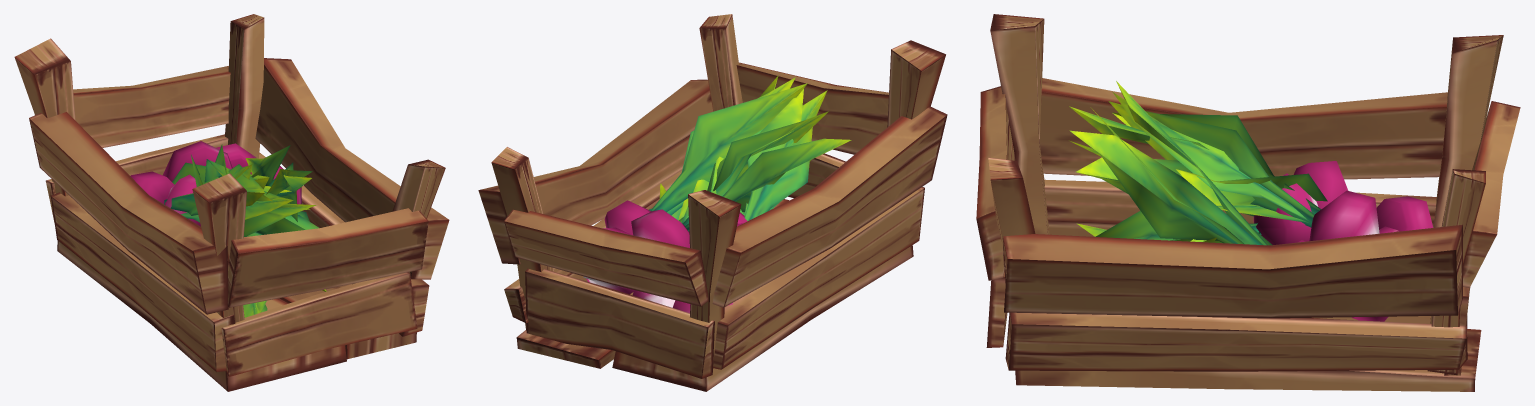
File: SM_PROP_crate_04.glb
3 renders of one model, left to right at view 1: azimuth 30°, elevation 25°; view 2: azimuth 150°, elevation 25°; view 3: azimuth 270°, elevation 25°, orthographic. The views are drawn at different scales.
Visible parts, largest first — view 1: SM_PROP_crate_04_EXPORT; view 2: SM_PROP_crate_04_EXPORT; view 3: SM_PROP_crate_04_EXPORT.
Part boxes in pixels (left/top/right/bottom): SM_PROP_crate_04_EXPORT: left=14, top=14, right=449, bottom=391; SM_PROP_crate_04_EXPORT: left=478, top=14, right=947, bottom=391; SM_PROP_crate_04_EXPORT: left=976, top=14, right=1520, bottom=391.
Size of the model in its own units: 0.645 by 0.4619 by 0.8913.
2 materials, 2 textured.
